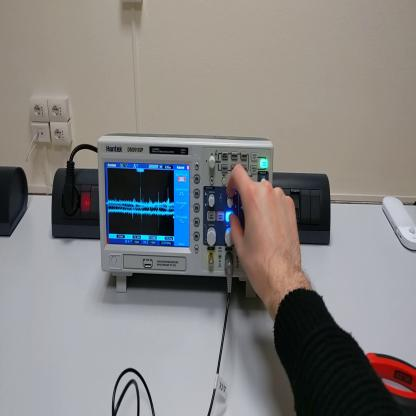hand: (227, 163, 305, 306)
oscilloscope: (101, 132, 277, 298)
pliers: (359, 340, 416, 415)
socket: (50, 166, 100, 241), (2, 163, 28, 238)
